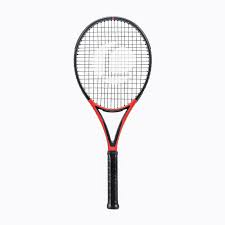tennis racket: (72, 16, 154, 211)
